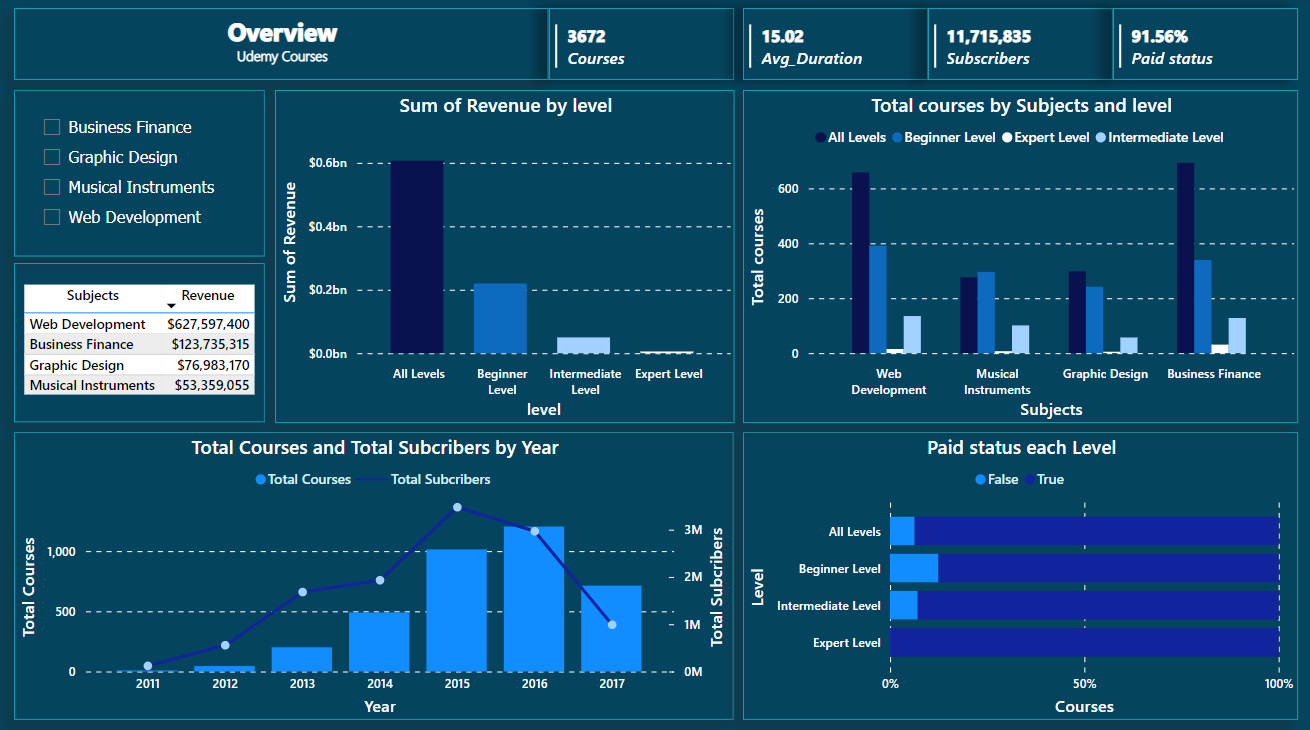

What the dashboard file says about the page in this screenshot:
{"tool":"powerbi","page":{"name":"Overviews","canvas":[1280,720],"ordinal":0},"visuals":[{"type":"lineStackedColumnComboChart","fields":{"Category":["2  Udemy_courses.published_timestamp.Variation.Date Hierarchy.Year","2  Udemy_courses.published_timestamp.Variation.Date Hierarchy.Month"],"Y2":["Sum(2  Udemy_courses.num_subscribers)"],"Y":["CountNonNull(Udemy_courses.course_title)"]},"box":[15,422,700,280],"z":0},{"type":"hundredPercentStackedBarChart","title":"Paid status each Level","fields":{"Category":["Udemy_courses.level"],"Series":["Udemy_courses.is_paid"],"Y":["CountNonNull(Udemy_courses.course_id)"]},"box":[724,422,540,280],"z":1000},{"type":"multiRowCard","title":"Courses","fields":{"Values":["CountNonNull(2  Udemy_courses.course_title)"]},"box":[535,10,180,70],"z":2000},{"type":"multiRowCard","fields":{"Values":["2  Udemy_courses.Average of content_duration average per course_title"]},"box":[723.8,10,180,70],"z":3000},{"type":"multiRowCard","fields":{"Values":["Sum(2  Udemy_courses.num_subscribers)"]},"box":[903.8,10,180,70],"z":4000},{"type":"slicer","title":"Subjects","fields":{"Values":["2  Udemy_courses.subject"]},"box":[15,89,244,162],"z":5000},{"type":"textbox","box":[15,10,520,70],"z":6000},{"type":"tableEx","fields":{"Values":["Udemy_courses.subject","Sum(Udemy_courses.Revenue)"]},"box":[15,257.9,244.3,155],"z":7000},{"type":"clusteredColumnChart","fields":{"Category":["Udemy_courses.subject"],"Y":["CountNonNull(Udemy_courses.course_title)"],"Series":["Udemy_courses.level"]},"box":[724,89,540,324],"z":8000},{"type":"multiRowCard","fields":{"Values":["Udemy_courses.Paid status"]},"box":[1083.8,10,180,70],"z":9000},{"type":"columnChart","fields":{"Y":["Sum(Udemy_courses.Revenue)"],"Category":["Udemy_courses.level"]},"box":[268,89,447,324],"z":10000}]}

Visuals, with their boxes in screenshot pixels (x1, y1, x2, y2), scaled from the page's 1280x720 canvas onto the 1310x730 screenshot:
lineStackedColumnComboChart - 2  Udemy_courses.published_timestamp.Variation.Date Hierarchy.Year x 2  Udemy_courses.published_timestamp.Variation.Date Hierarchy.Month: x1=15 y1=428 x2=732 y2=712
"Paid status each Level" hundredPercentStackedBarChart: x1=741 y1=428 x2=1294 y2=712
"Courses" multiRowCard: x1=548 y1=10 x2=732 y2=81
multiRowCard - 2  Udemy_courses.Average of content_duration average per course_title: x1=741 y1=10 x2=925 y2=81
multiRowCard - Sum(2  Udemy_courses.num_subscribers): x1=925 y1=10 x2=1109 y2=81
"Subjects" slicer: x1=15 y1=90 x2=265 y2=254
textbox: x1=15 y1=10 x2=548 y2=81
tableEx - Udemy_courses.subject x Sum(Udemy_courses.Revenue): x1=15 y1=261 x2=265 y2=419
clusteredColumnChart - Udemy_courses.subject x CountNonNull(Udemy_courses.course_title): x1=741 y1=90 x2=1294 y2=419
multiRowCard - Udemy_courses.Paid status: x1=1109 y1=10 x2=1293 y2=81
columnChart - Sum(Udemy_courses.Revenue) x Udemy_courses.level: x1=274 y1=90 x2=732 y2=419
